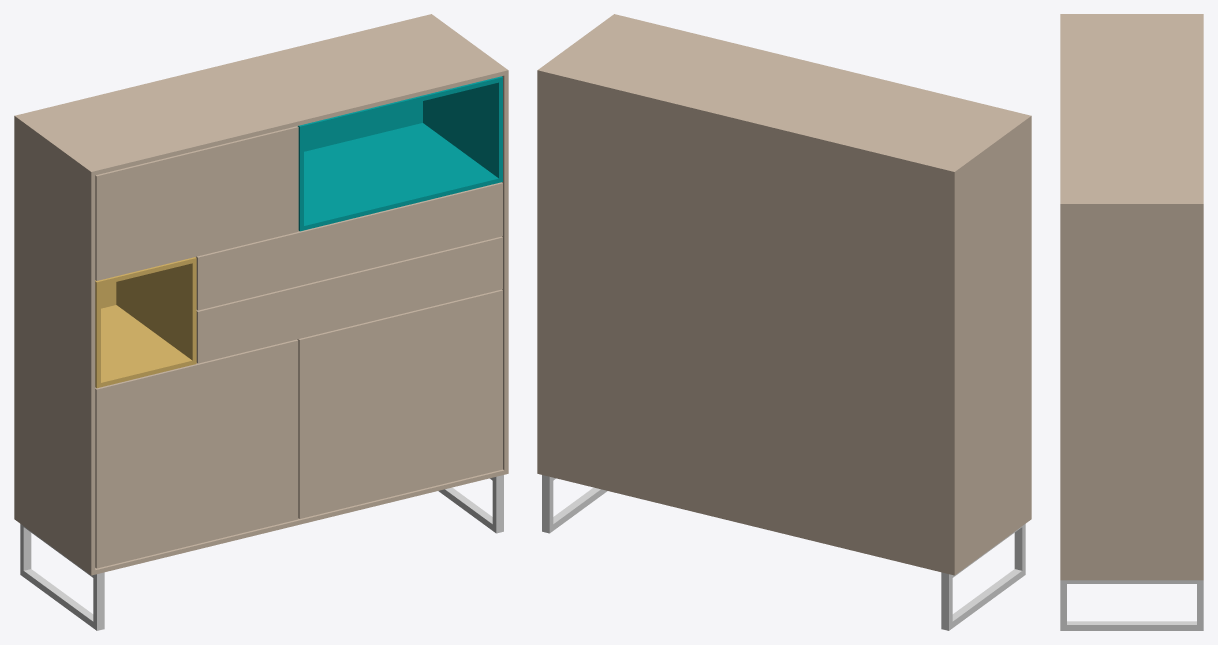
Rendered from cabinet04.glb.
3 renders of one model, left to right at view 1: azimuth 30°, elevation 25°; view 2: azimuth 150°, elevation 25°; view 3: azimuth 270°, elevation 25°, orthographic. The views are drawn at different scales.
Visible parts, largest first — view 1: Mesh1_Color_L11_0, Mesh2_Color_L11_0, Mesh3_Color_L16_0, Mesh6_Color_L11_0, Mesh5_CHEROKEE_BLUE_UC52128_0, Mesh7_Color_L11_0, Mesh8_Color_L11_0, Mesh4_Metal_Painted_Bumpy_Yellow_5cm_0, Mesh11_CHEROKEE_BLUE_UC52128_0, Mesh10_Color_M02_0, Mesh9_Color_M02_0; view 2: Mesh11_Color_L11_0, Mesh1_Color_L11_0, Mesh10_Color_M02_0, Mesh9_Color_M02_0; view 3: Mesh1_Color_L11_0, Mesh9_Color_M02_0.
Boxes of the visible parts, x1,y1,x2,y2 form: Mesh1_Color_L11_0: (14,14,508,575); Mesh2_Color_L11_0: (297,289,502,518); Mesh3_Color_L16_0: (95,339,298,568); Mesh6_Color_L11_0: (95,126,298,280); Mesh5_CHEROKEE_BLUE_UC52128_0: (297,76,502,231); Mesh7_Color_L11_0: (196,182,502,310); Mesh8_Color_L11_0: (196,236,502,363); Mesh4_Metal_Painted_Bumpy_Yellow_5cm_0: (95,257,196,388); Mesh11_CHEROKEE_BLUE_UC52128_0: (304,101,422,151); Mesh10_Color_M02_0: (20,524,104,630); Mesh9_Color_M02_0: (438,475,503,533); Mesh11_Color_L11_0: (541,75,950,569); Mesh1_Color_L11_0: (537,14,1031,575); Mesh10_Color_M02_0: (941,524,1025,630); Mesh9_Color_M02_0: (542,475,607,533); Mesh1_Color_L11_0: (1060,14,1203,580); Mesh9_Color_M02_0: (1060,580,1203,630).
Bounding box in the file's own units: 2.14 × 2.25 × 0.6812.
